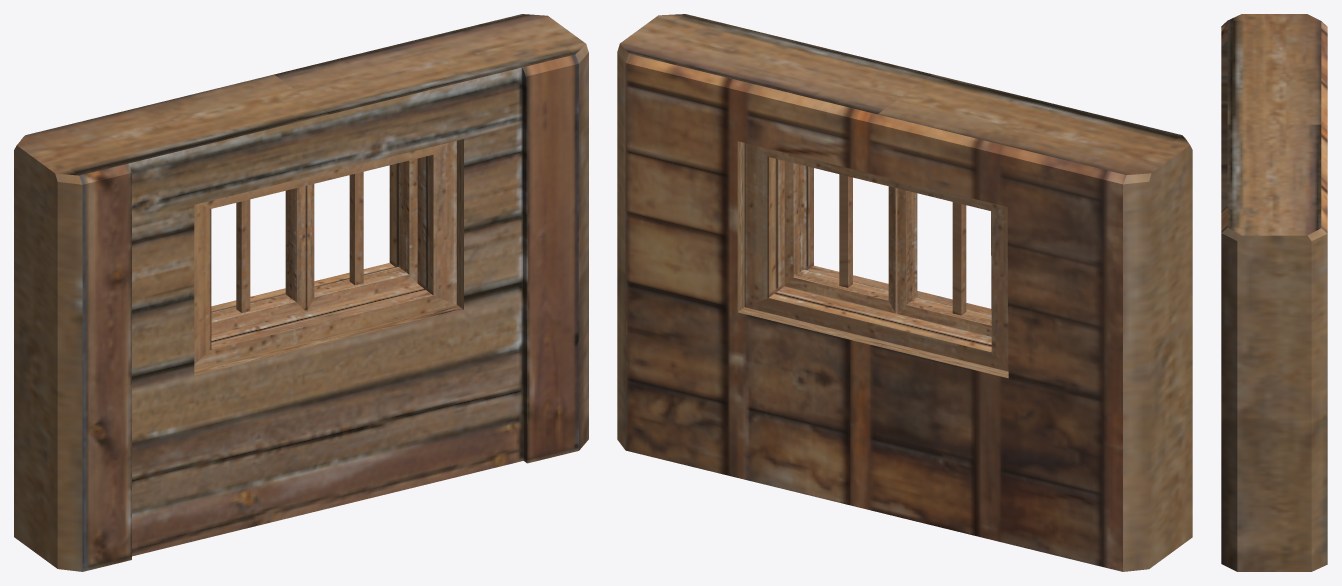
Rendered from Cabin_Window.obj.
3 views of the same model, side by side, from view 1: azimuth 30°, elevation 25°; view 2: azimuth 150°, elevation 25°; view 3: azimuth 270°, elevation 25° (orthographic). The views are drawn at different scales.
Parts seen in each view (by area): view 1: LowPoly_Cube; view 2: LowPoly_Cube; view 3: LowPoly_Cube.
Boxes of the visible parts, <box> form: LowPoly_Cube: <box>14,14,588,571</box>; LowPoly_Cube: <box>617,14,1192,571</box>; LowPoly_Cube: <box>1221,14,1327,571</box>.
Size of the model in its own units: 1.98 by 1.4 by 0.3999.
